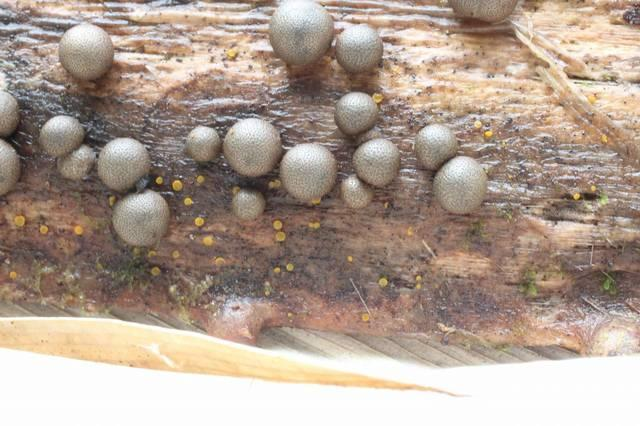poisonous_mushroom: (268, 0, 334, 67), (222, 116, 281, 177), (278, 142, 337, 203), (110, 188, 169, 248), (57, 22, 114, 81), (432, 155, 488, 214), (96, 136, 150, 192), (334, 22, 383, 74), (351, 137, 400, 187), (413, 122, 458, 170), (37, 113, 84, 157), (333, 90, 378, 135), (444, 0, 525, 24), (184, 124, 220, 163), (0, 136, 21, 197), (230, 185, 265, 220), (0, 89, 20, 137), (622, 0, 639, 26)
